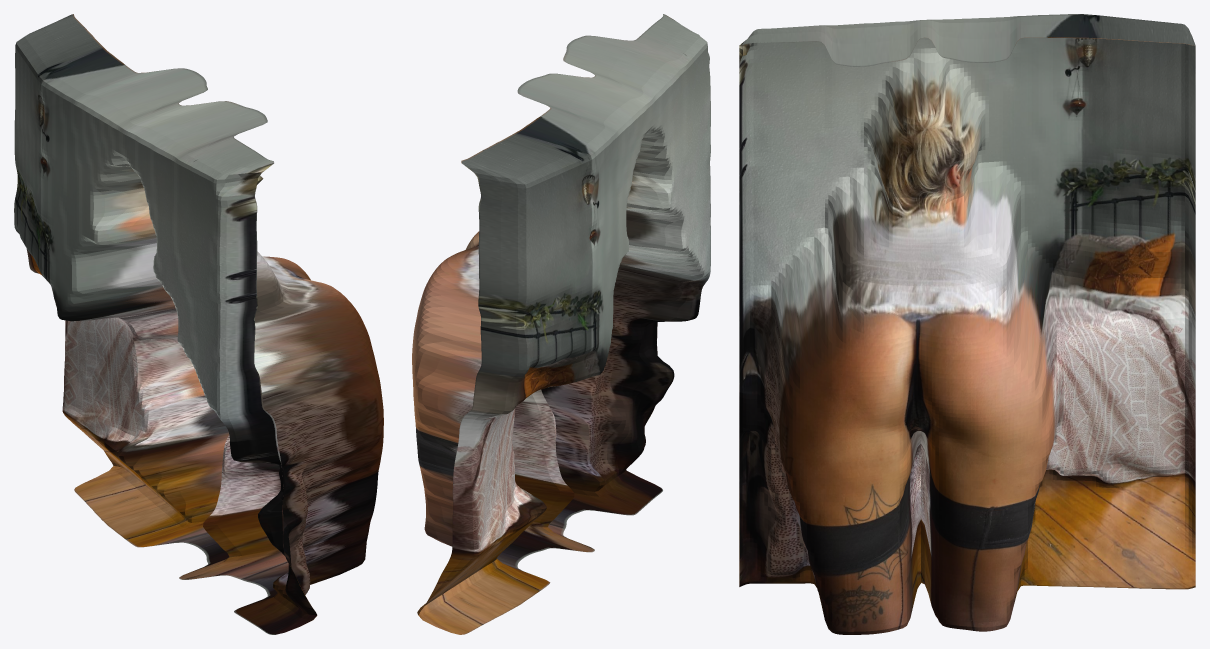
Rendered from your-model.glb.
3 views of the same model, side by side, from view 1: azimuth 30°, elevation 25°; view 2: azimuth 150°, elevation 25°; view 3: azimuth 270°, elevation 25° (orthographic). The views are drawn at different scales.
Parts seen in each view (by area): view 1: Ass; view 2: Ass; view 3: Ass.
Boxes of the visible parts, bbox=[...] form: Ass: bbox=[14, 14, 383, 634]; Ass: bbox=[412, 14, 710, 634]; Ass: bbox=[739, 14, 1195, 634].
Size of the model in its own units: 0.9881 by 2 by 1.56.
Materials: 1 (1 with a texture image).
